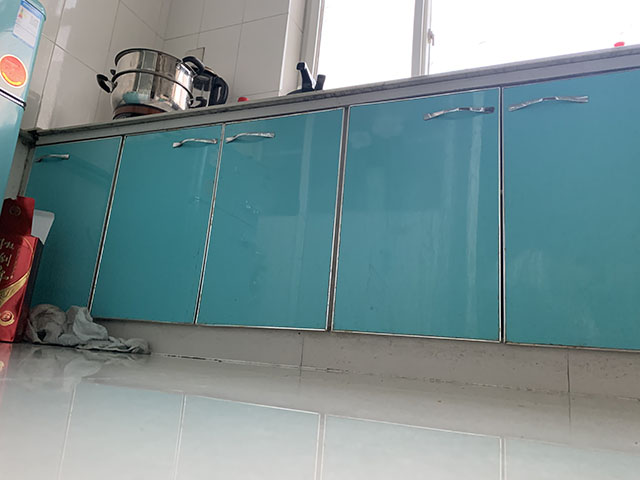cabinet: (16, 43, 640, 403)
